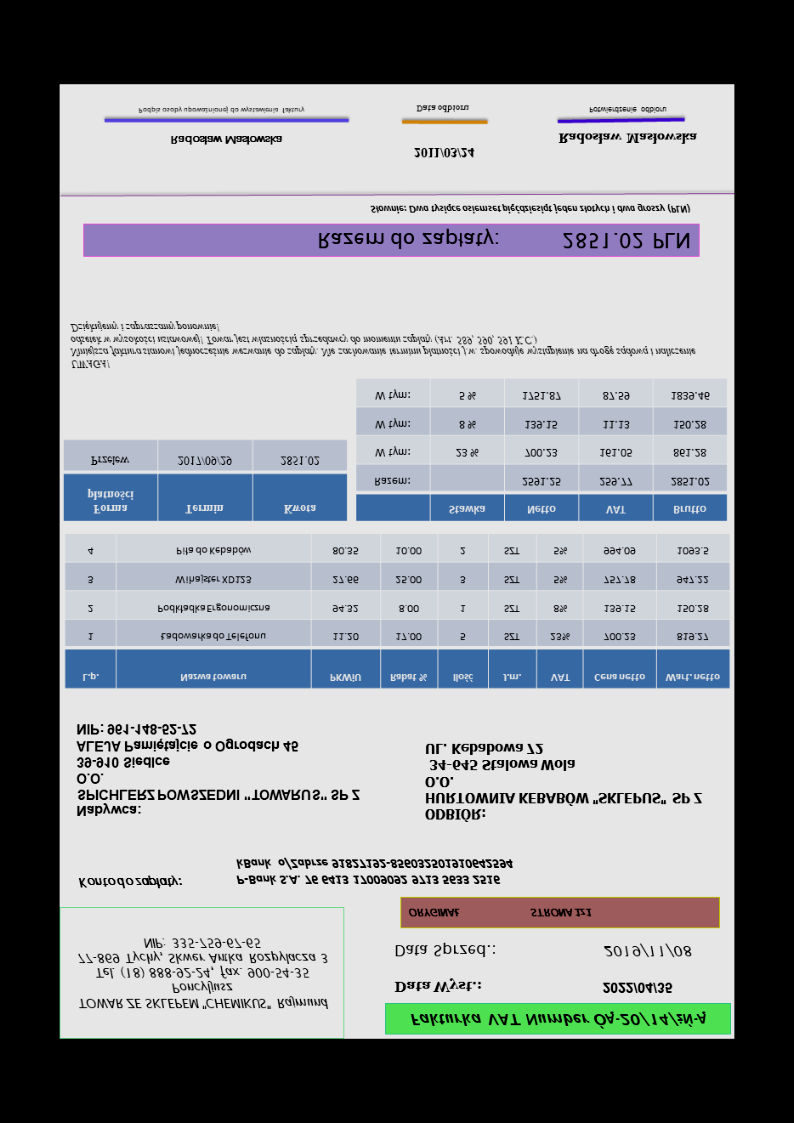Table: (63, 534, 730, 692), (353, 378, 728, 525), (63, 440, 347, 522)
TextBox: (70, 319, 700, 374), (73, 720, 364, 821), (421, 740, 706, 825), (72, 933, 332, 1016), (315, 226, 692, 253), (232, 854, 518, 889), (406, 1007, 710, 1030), (367, 200, 694, 219), (404, 903, 596, 921), (555, 128, 698, 147), (136, 104, 309, 119), (74, 872, 184, 894), (391, 939, 499, 961), (600, 941, 695, 961), (391, 976, 485, 996), (167, 134, 286, 149), (599, 979, 674, 998), (409, 144, 478, 162), (587, 103, 670, 117), (413, 101, 472, 117)
